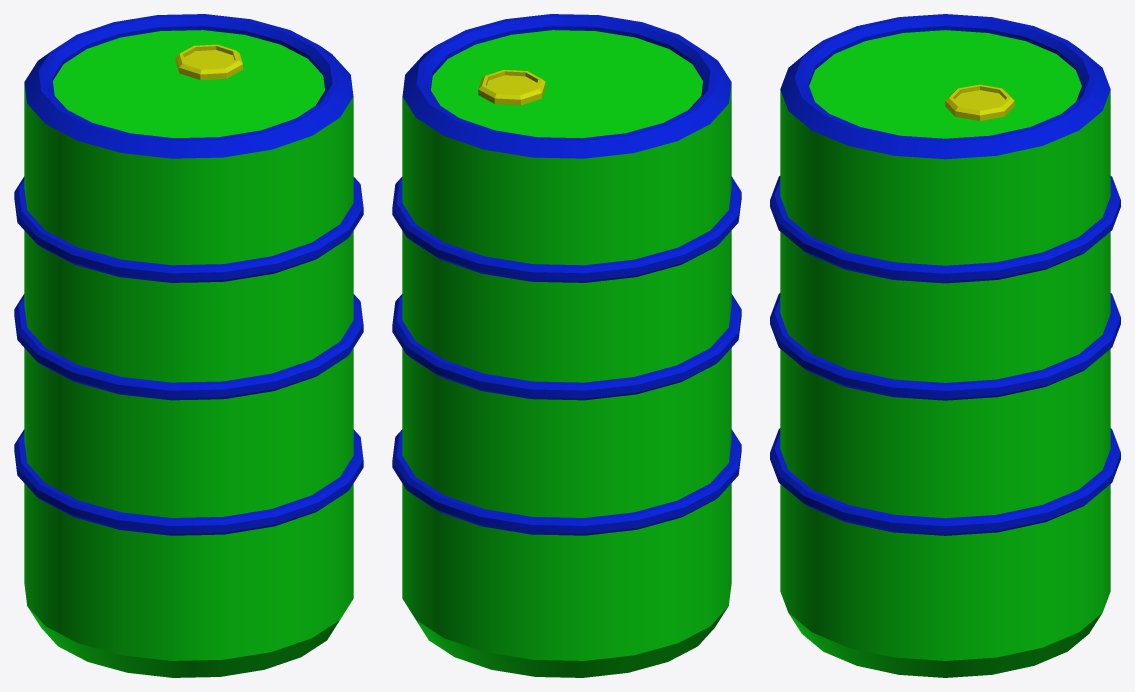
The model's file is Barrel.fbx.
The picture shows the model from 3 angles, left to right: view 1: azimuth 30°, elevation 25°; view 2: azimuth 150°, elevation 25°; view 3: azimuth 270°, elevation 25°; orthographic projection.
Parts seen in each view (by area): view 1: Barrel1Combined; view 2: Barrel1Combined; view 3: Barrel1Combined.
Boxes of the visible parts, <box> form: Barrel1Combined: <box>14,14,363,677</box>; Barrel1Combined: <box>392,14,741,677</box>; Barrel1Combined: <box>770,14,1120,677</box>.
Size of the model in its own units: 0.6664 by 1.12 by 0.6664.
